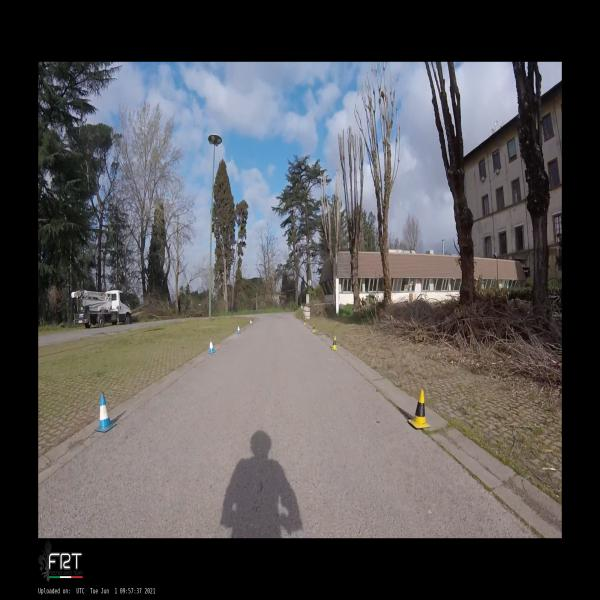blue_cone: (94, 392, 117, 432), (208, 338, 215, 353), (236, 325, 241, 334)
yellow_cone: (408, 389, 431, 429), (331, 336, 338, 350), (312, 324, 315, 332)
